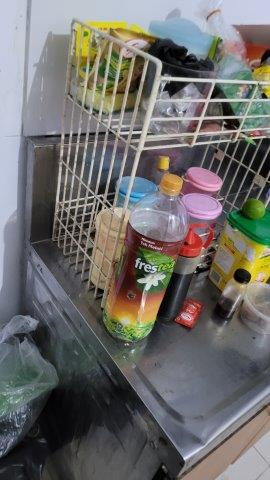botolplastik: (101, 173, 191, 344)
